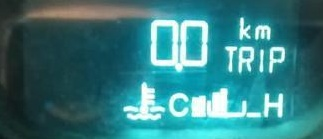-: (172, 59, 184, 75)
0: (147, 15, 178, 66), (180, 16, 208, 66)
X: (261, 89, 287, 119), (166, 89, 189, 120), (268, 42, 286, 74), (238, 13, 254, 40), (237, 44, 251, 73), (223, 43, 236, 71), (255, 22, 271, 40), (257, 46, 265, 74)
